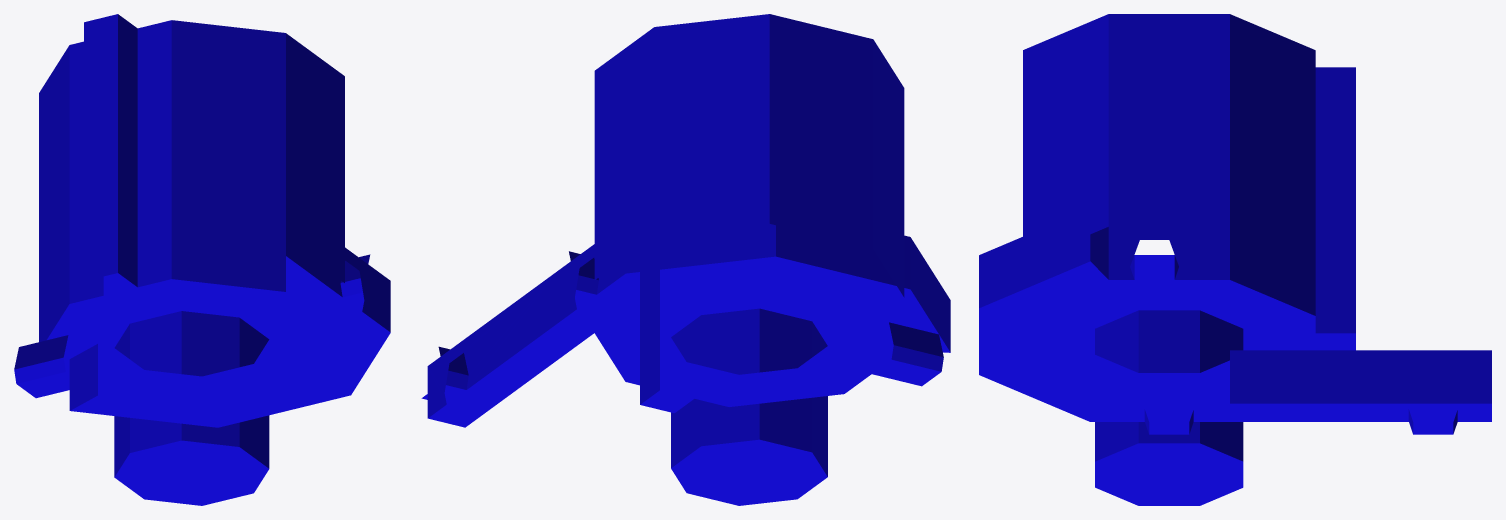
Rendered from room.001.glb.
3 views of the same model, side by side, from view 1: azimuth 30°, elevation 25°; view 2: azimuth 150°, elevation 25°; view 3: azimuth 270°, elevation 25° (orthographic). The views are drawn at different scales.
Visible parts, largest first — view 1: room.001; view 2: room.001; view 3: room.001.
Boxes of the visible parts, x1,y1,x2,y2 form: room.001: [14, 14, 390, 505]; room.001: [421, 14, 950, 505]; room.001: [979, 14, 1491, 505].
Size of the model in its own units: 28.98 by 30 by 34.97.
